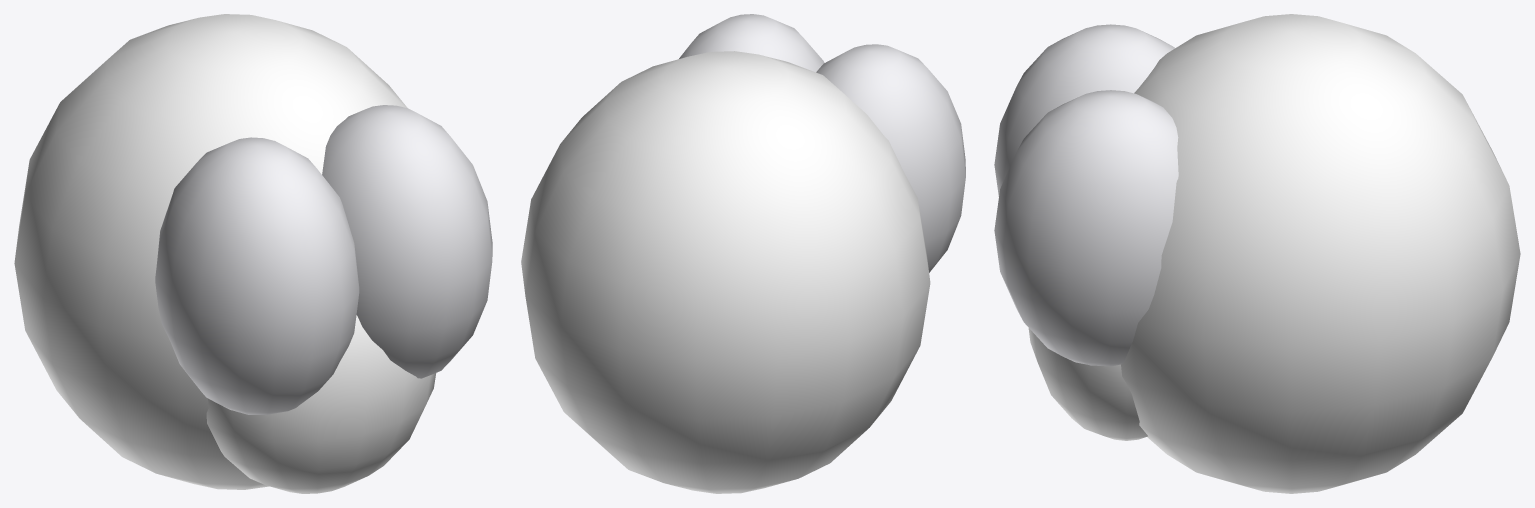
The model's file is muscle_s2_calf.fbx.
The picture shows the model from 3 angles, left to right: view 1: azimuth 30°, elevation 25°; view 2: azimuth 150°, elevation 25°; view 3: azimuth 270°, elevation 25°; orthographic projection. The views are drawn at different scales.
Visible parts, largest first — view 1: muscle_s2_calf; view 2: muscle_s2_calf; view 3: muscle_s2_calf.
Boxes of the visible parts, x1,y1,x2,y2 form: muscle_s2_calf: (14, 14, 492, 493); muscle_s2_calf: (521, 14, 965, 493); muscle_s2_calf: (994, 14, 1520, 493).
Bounding box in the file's own units: 1.15 × 1.26 × 1.35.
1 material, 1 textured.
